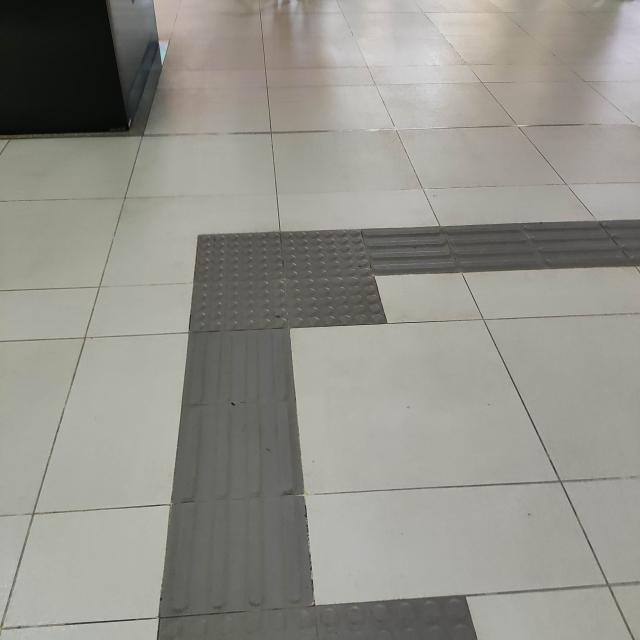kanan: (158, 205, 508, 367)
